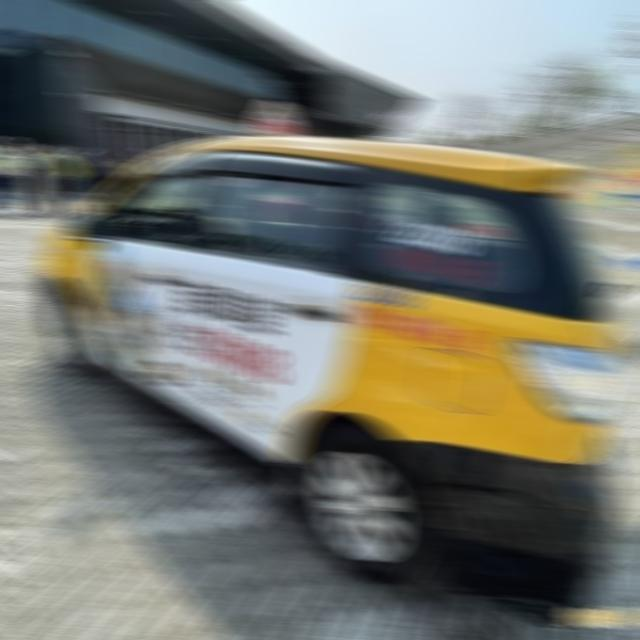Taxi: (37, 136, 630, 625)
